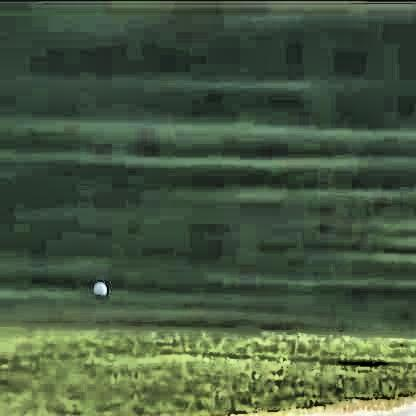golfball: (90, 279, 108, 297)
